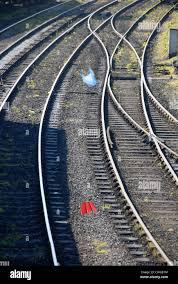Color_steel: (79, 196, 99, 221)
Plastic: (79, 64, 99, 92)
